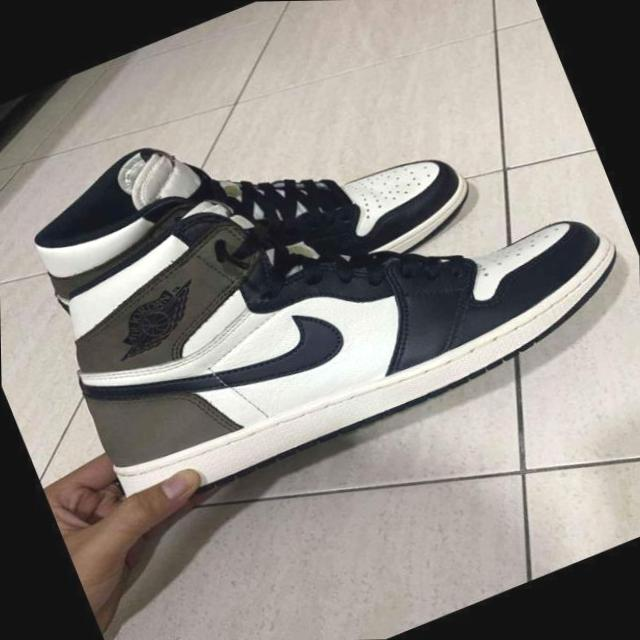nike_original_jordan: (33, 66, 640, 517), (2, 34, 486, 380)
